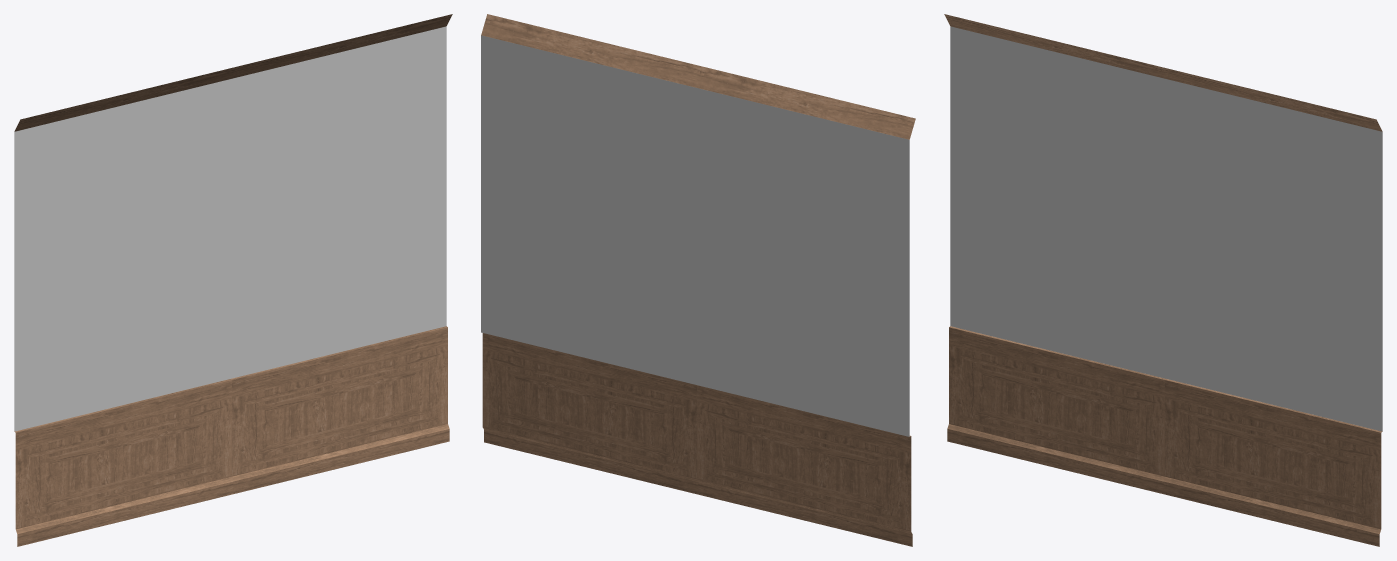
File: WallInt2A.fbx
3 views of the same model, side by side, from view 1: azimuth 30°, elevation 25°; view 2: azimuth 150°, elevation 25°; view 3: azimuth 330°, elevation 25° (orthographic).
Visible parts, largest first — view 1: WallInt2A; view 2: WallInt2A; view 3: WallInt2A.
Boxes of the visible parts, x1=… form: WallInt2A: x1=14, y1=14, x2=452, y2=546; WallInt2A: x1=481, y1=14, x2=915, y2=546; WallInt2A: x1=944, y1=14, x2=1382, y2=546.
Bounding box in the file's own units: 400 × 380 × 10.
